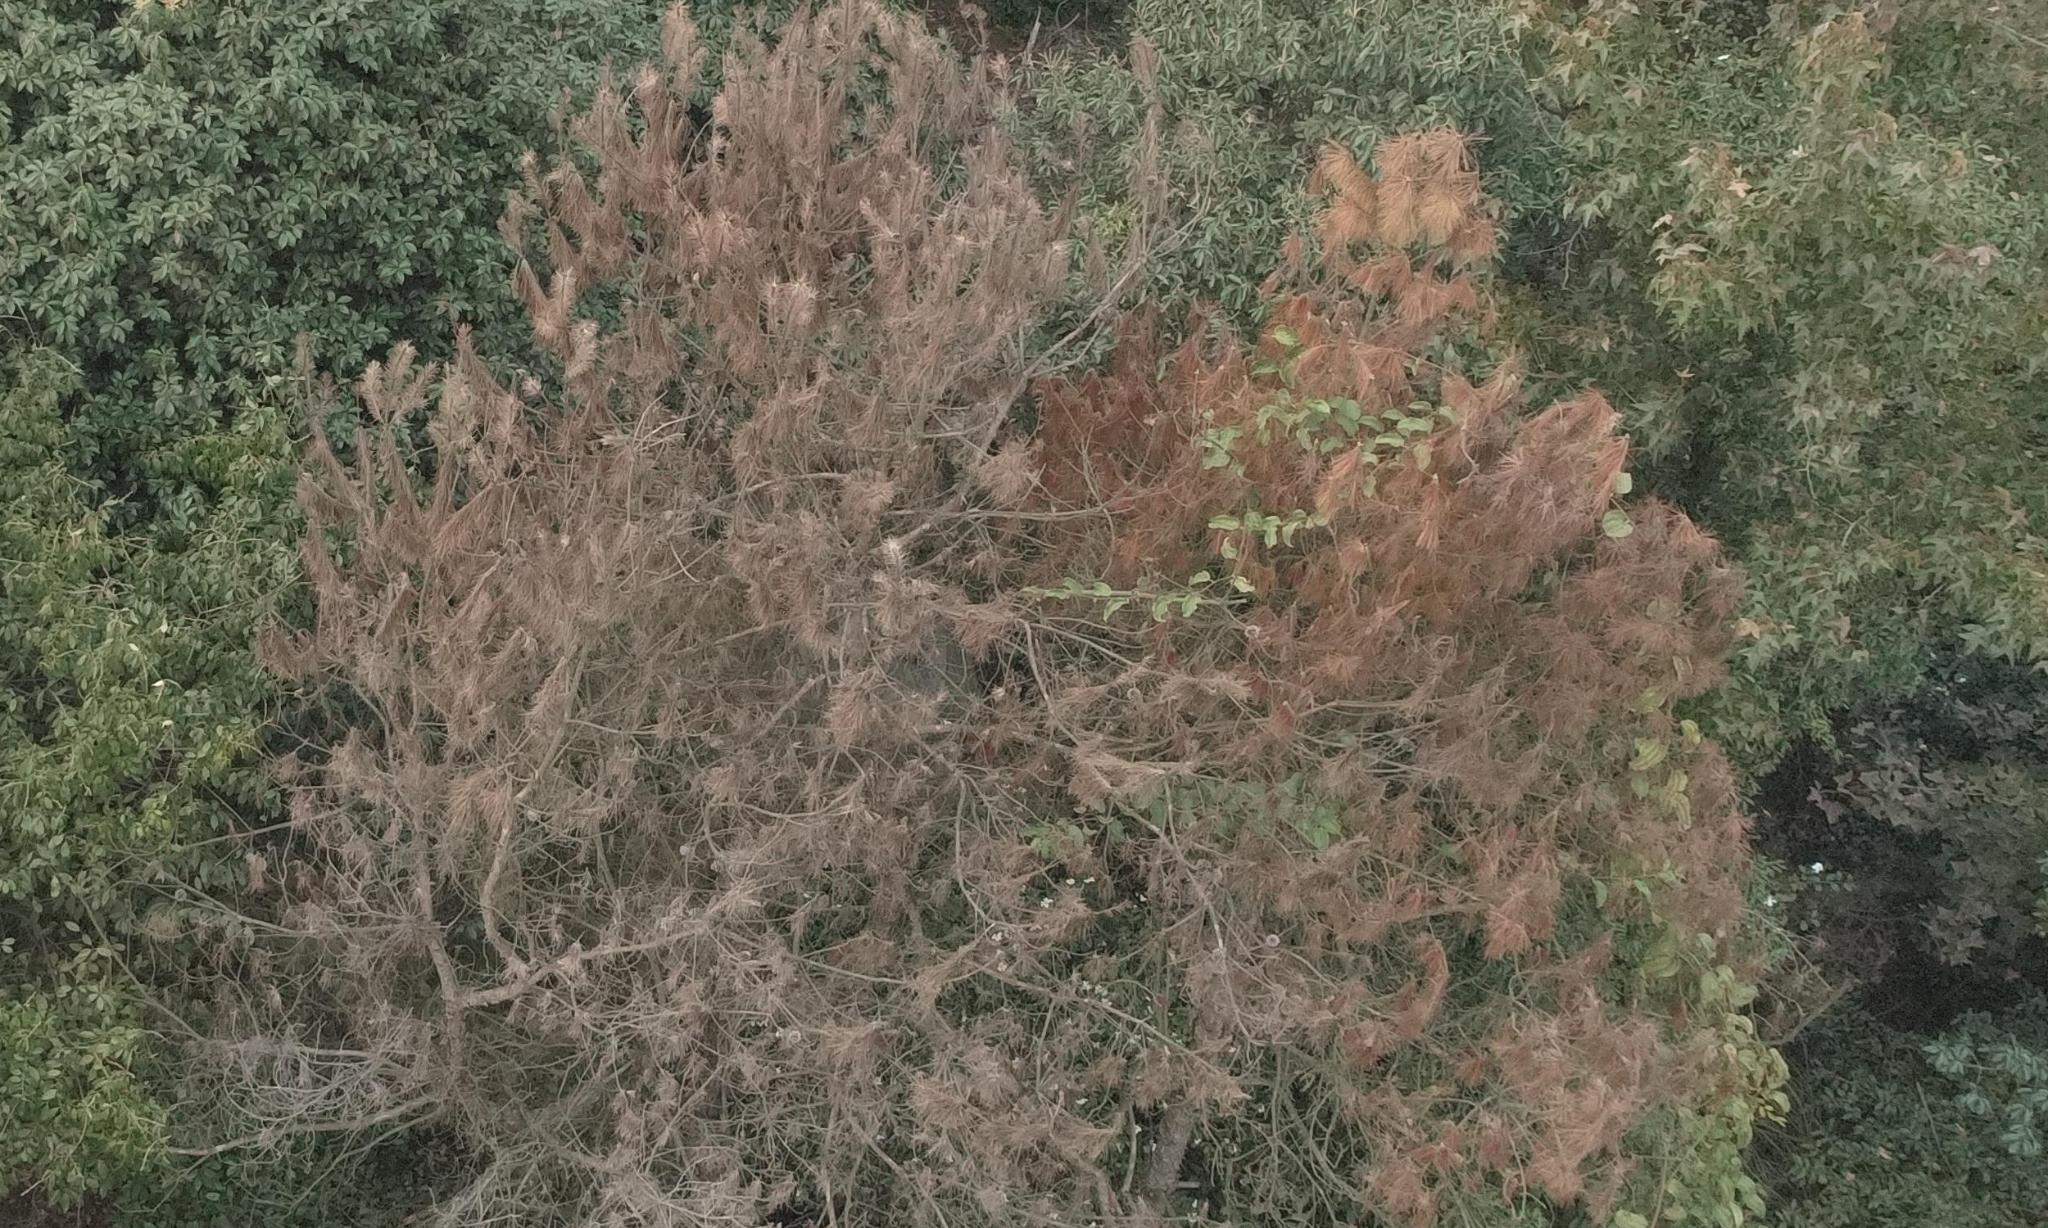heavy: (243, 19, 1710, 1208)
